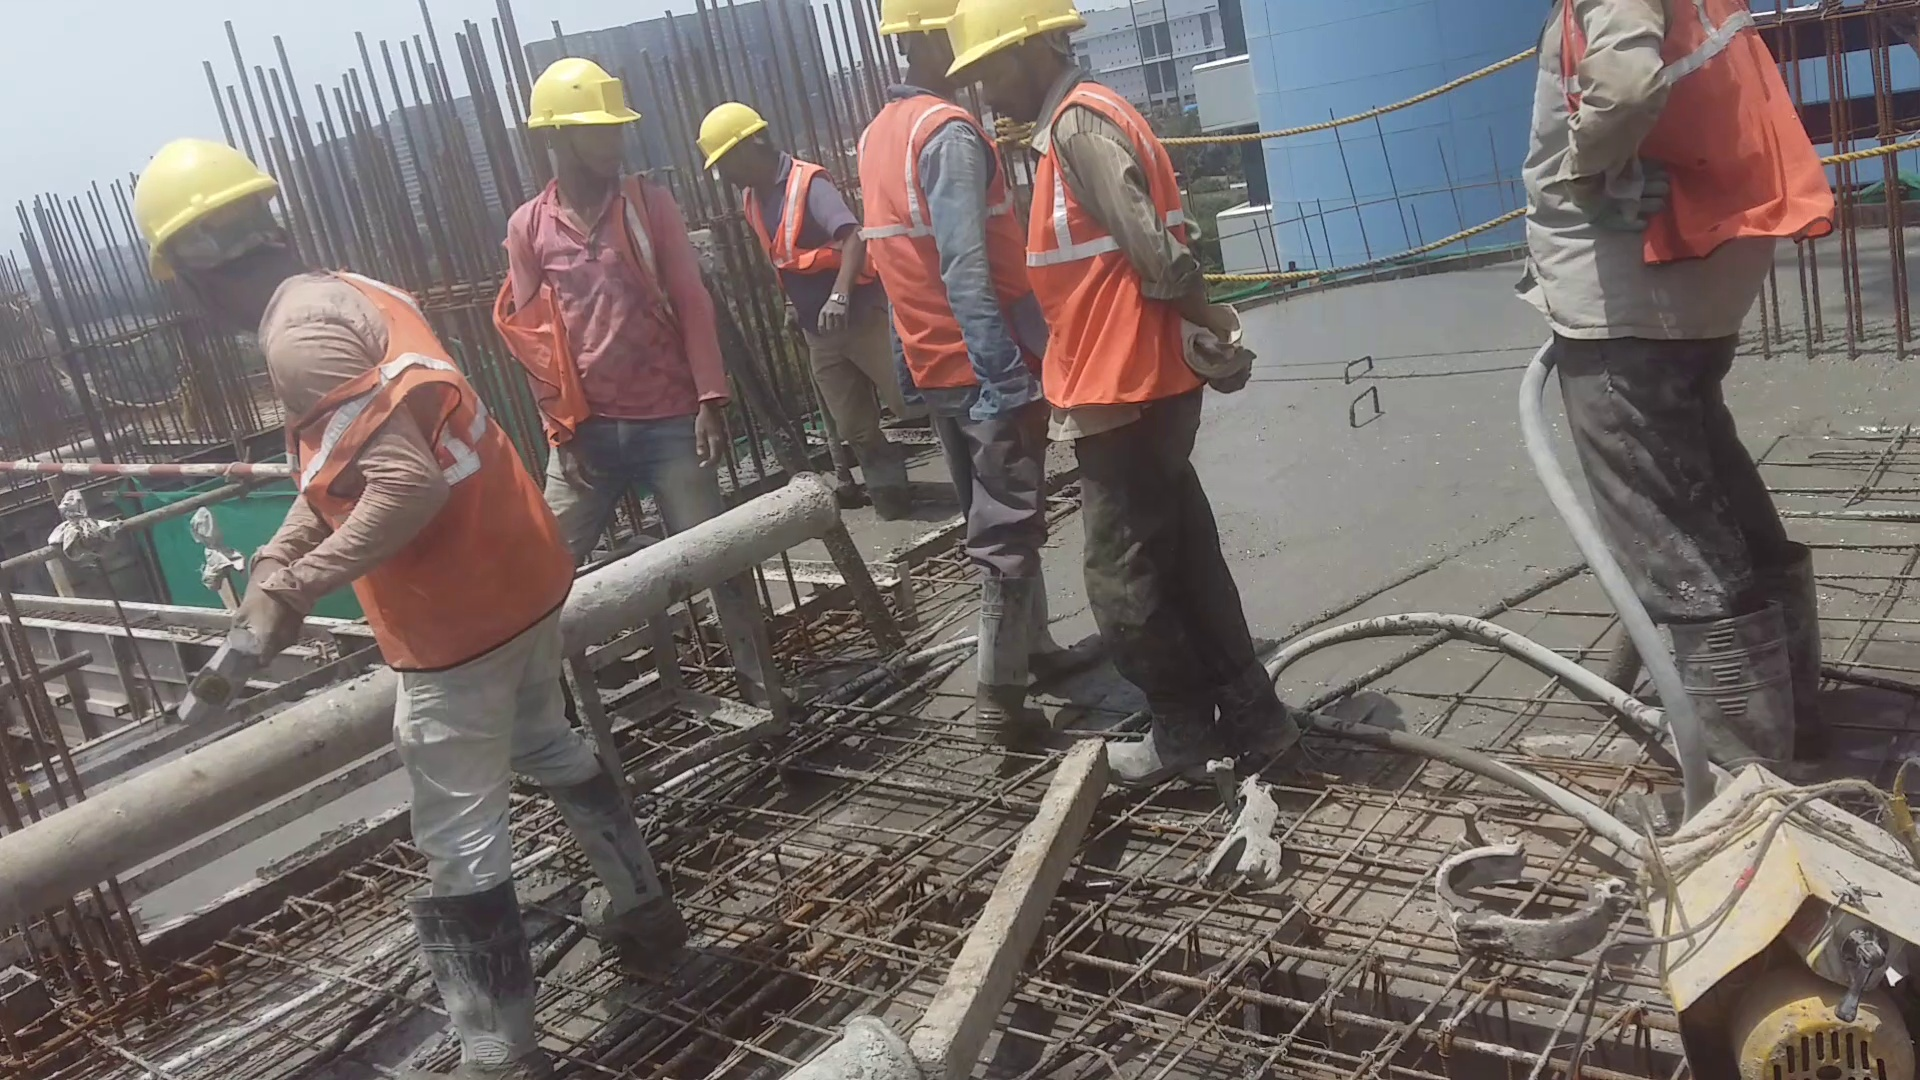SAFE: (135, 127, 506, 669), (953, 1, 1191, 411), (516, 61, 680, 423), (700, 100, 870, 363), (860, 1, 957, 402)
